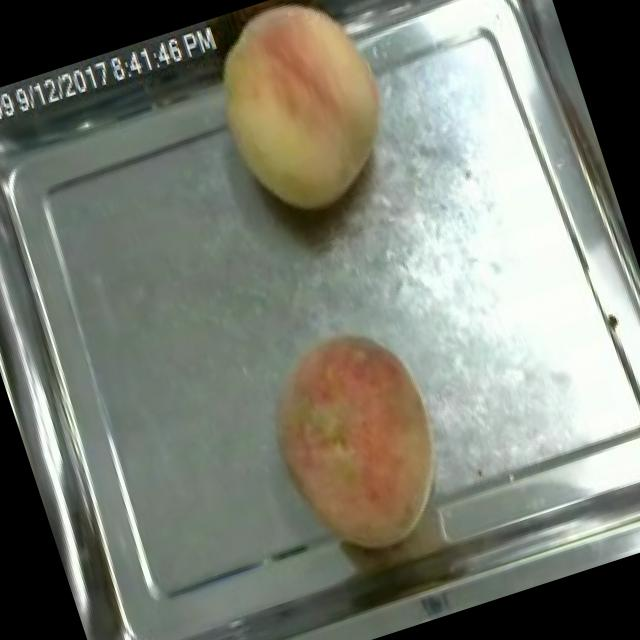Fruit: (246, 310, 474, 575), (183, 0, 421, 240)
